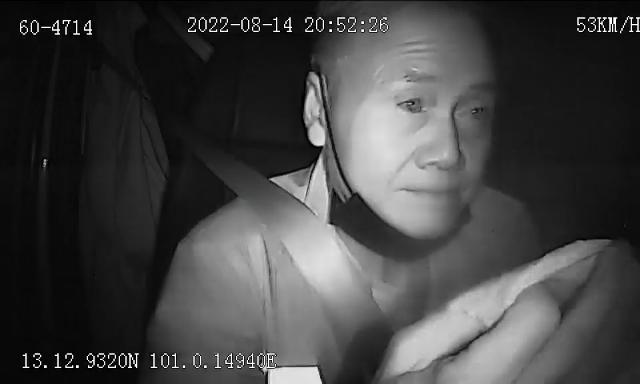SafeDriving: (388, 80, 436, 120), (454, 90, 498, 126)
Seatbelt: (165, 87, 408, 351)
